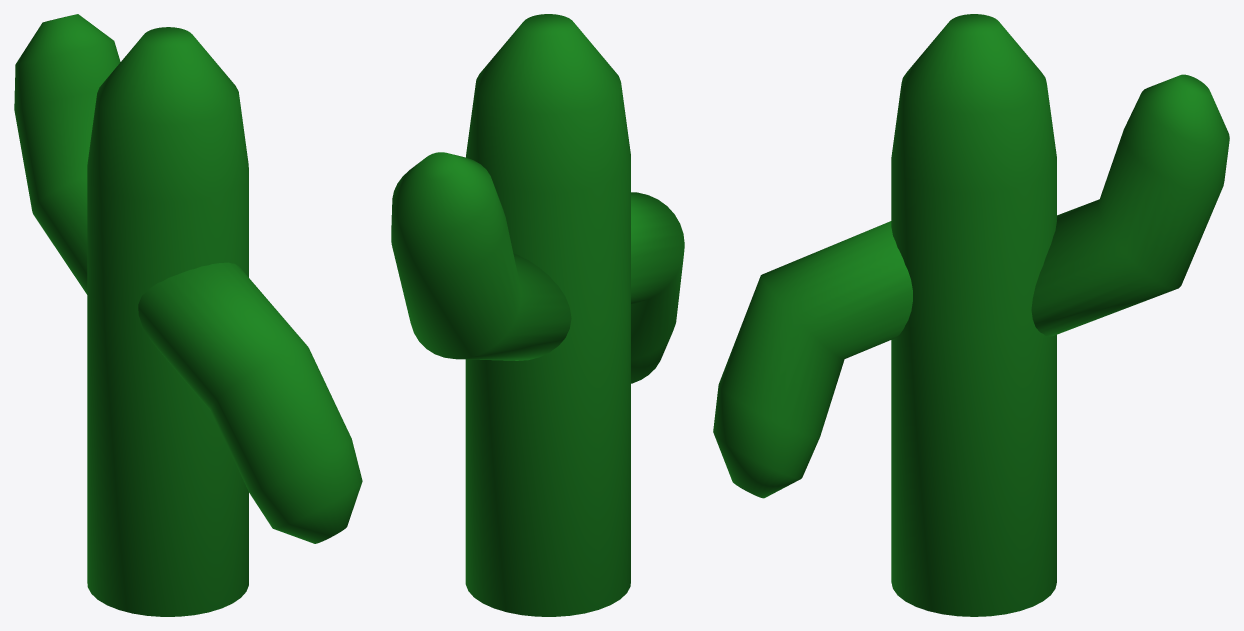
Rendered from Cactus.fbx.
The picture shows the model from 3 angles, left to right: view 1: azimuth 30°, elevation 25°; view 2: azimuth 150°, elevation 25°; view 3: azimuth 270°, elevation 25°; orthographic projection. The views are drawn at different scales.
Visible parts, largest first — view 1: Cylinder; view 2: Cylinder; view 3: Cylinder.
Boxes of the visible parts, <box> form: Cylinder: <box>14,14,362,616</box>; Cylinder: <box>391,14,684,616</box>; Cylinder: <box>713,14,1229,616</box>.
Size of the model in its own units: 223 by 741 by 623.
